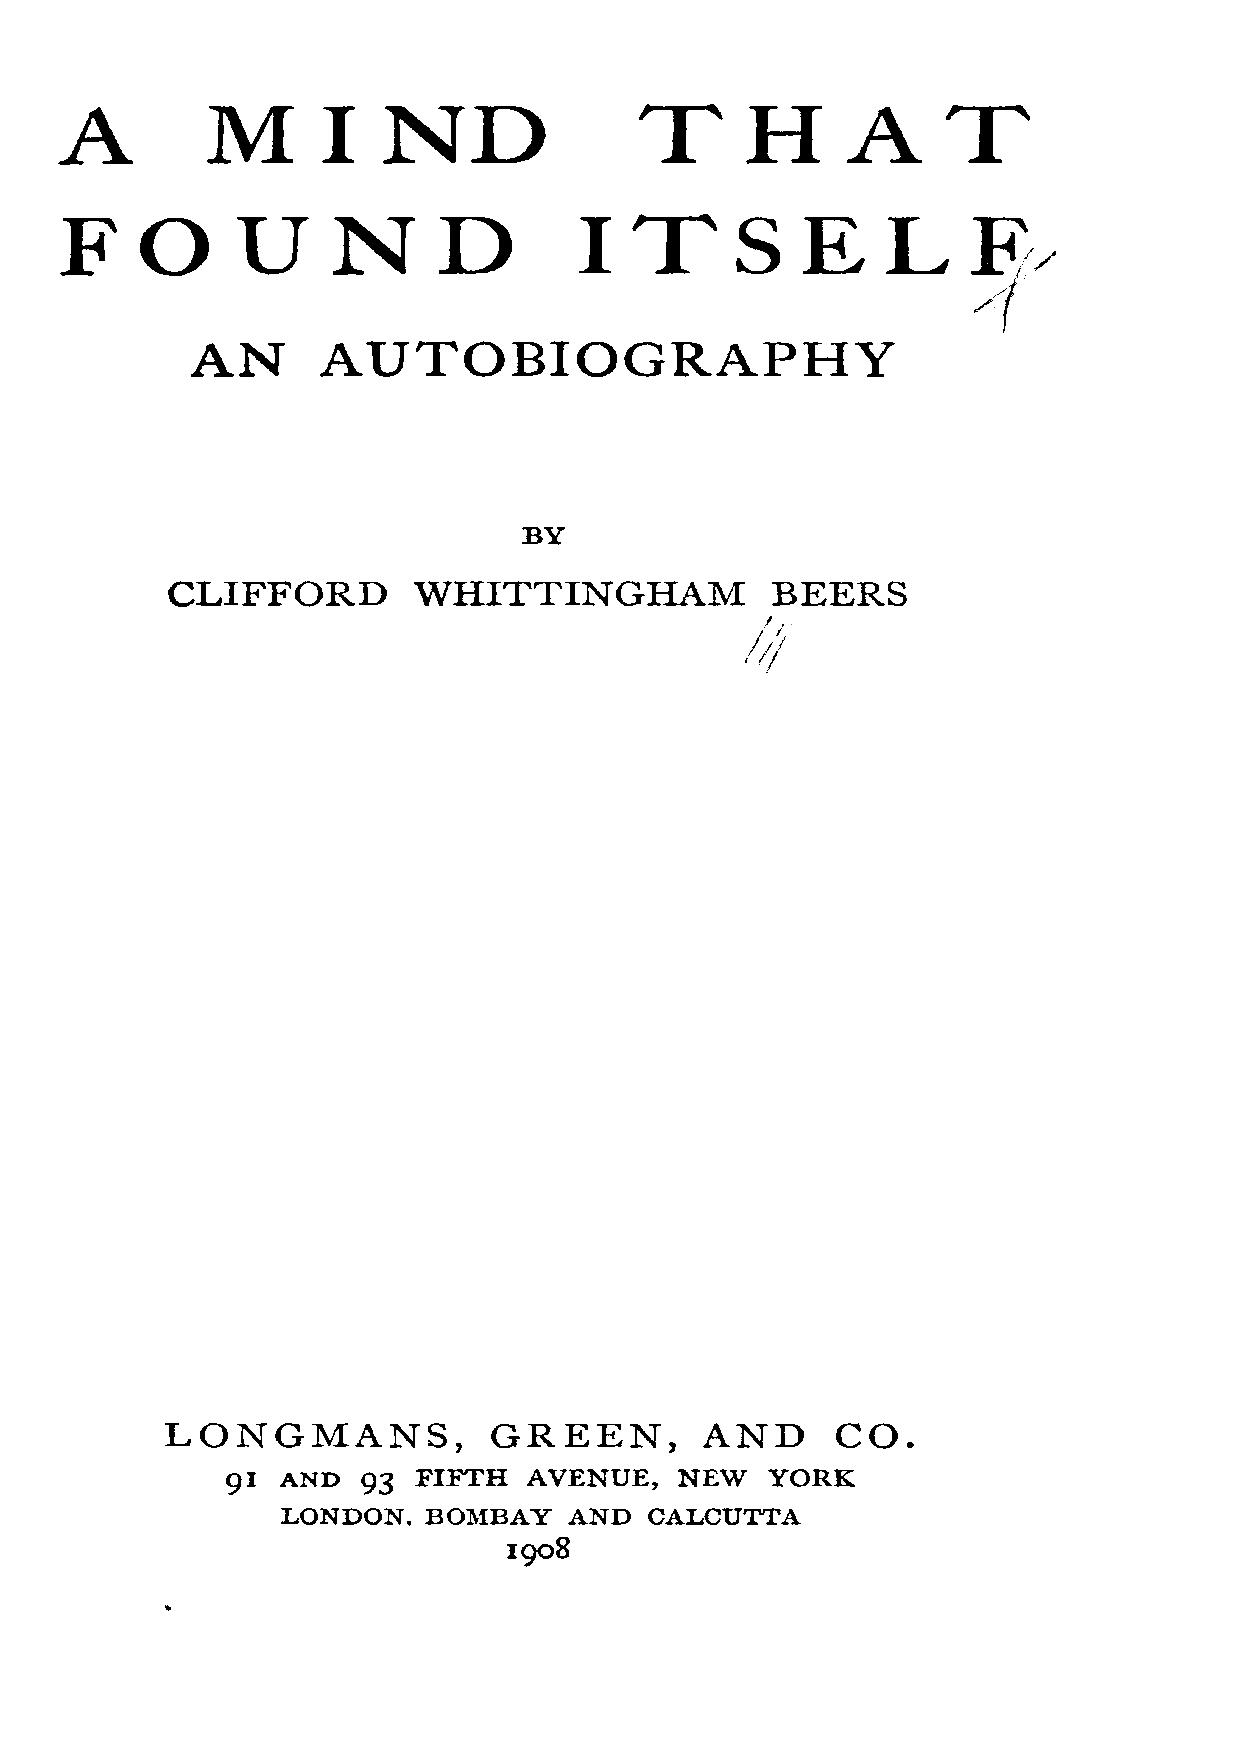author: (162, 521, 909, 611)
title: (51, 102, 1032, 384)
